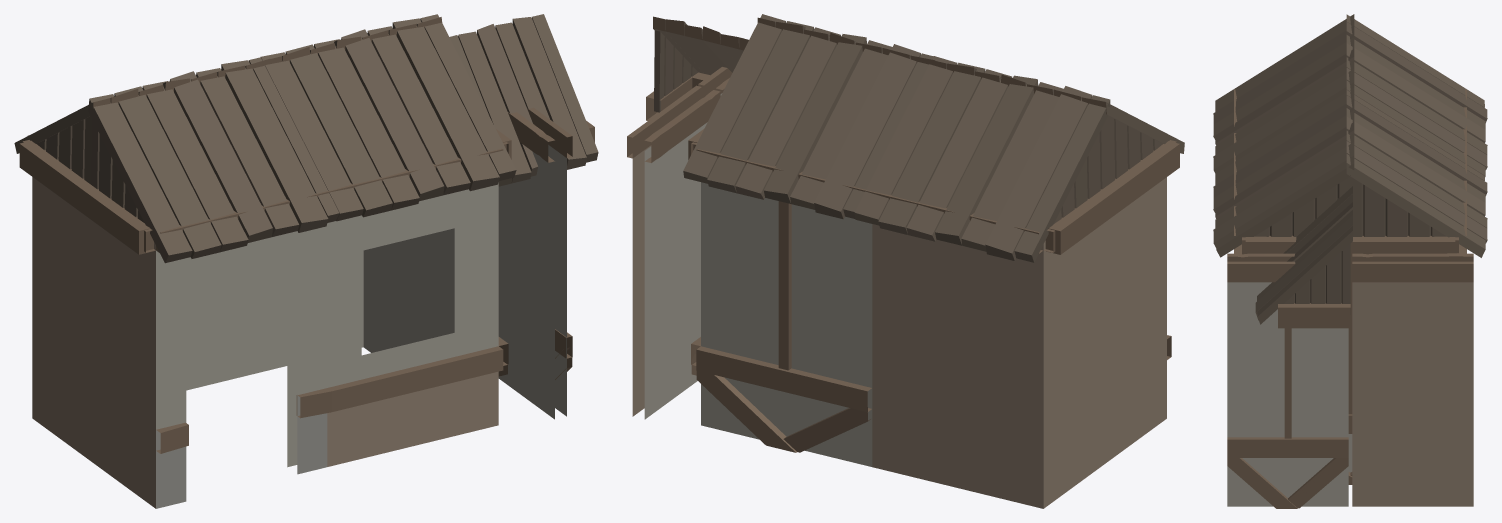
The model's file is storehouse.glb.
3 renders of one model, left to right at view 1: azimuth 30°, elevation 25°; view 2: azimuth 150°, elevation 25°; view 3: azimuth 270°, elevation 25°, orthographic. The views are drawn at different scales.
Visible parts, largest first — view 1: MoyoSilhouetteRoof:6, authored:building-shell-storehouse:window:1, MoyoSilhouetteRoof:8, authored:building-shell-storehouse:brick:4, authored:building-shell-storehouse:door:0, MoyoSilhouetteAnnex:10, MoyoSilhouetteAnnex:12, authored:building-shell-storehouse:plaster:5, authored:building-shell-storehouse:plaster:3, MoyoSilhouetteRoof:7, authored:building-shell-storehouse:brick:2, MoyoSilhouetteRoof:9; view 2: authored:building-shell-storehouse:plaster:3, authored:building-shell-storehouse:brick:2, MoyoSilhouetteRoof:7, MoyoSilhouetteRoof:9, authored:building-shell-storehouse:brick:4, MoyoSilhouetteAnnex:11, MoyoSilhouetteRoof:6, MoyoSilhouetteAnnex:12, MoyoSilhouetteRoof:8; view 3: MoyoSilhouetteAnnex:11, MoyoSilhouetteAnnex:10, MoyoSilhouetteRoof:9, MoyoSilhouetteRoof:8, MoyoSilhouetteRoof:7, MoyoSilhouetteRoof:6, MoyoSilhouetteAnnex:12, authored:building-shell-storehouse:plaster:5.
Part boxes in pixels (box(x1,y1,x2,y2)): MoyoSilhouetteRoof:6: box(79, 57, 339, 263); authored:building-shell-storehouse:window:1: box(327, 148, 503, 466); MoyoSilhouetteRoof:8: box(261, 14, 516, 221); authored:building-shell-storehouse:brick:4: box(22, 140, 155, 508); authored:building-shell-storehouse:door:0: box(156, 190, 331, 508); MoyoSilhouetteAnnex:10: box(498, 107, 572, 419); MoyoSilhouetteAnnex:12: box(449, 14, 598, 186); authored:building-shell-storehouse:plaster:5: box(363, 142, 508, 376); authored:building-shell-storehouse:plaster:3: box(213, 250, 363, 383); MoyoSilhouetteRoof:7: box(14, 58, 270, 210); authored:building-shell-storehouse:brick:2: box(28, 135, 213, 390); MoyoSilhouetteRoof:9: box(264, 17, 442, 65); authored:building-shell-storehouse:plaster:3: box(696, 149, 872, 466); authored:building-shell-storehouse:brick:2: box(867, 190, 1043, 508); MoyoSilhouetteRoof:7: box(854, 56, 1120, 262); MoyoSilhouetteRoof:9: box(683, 14, 932, 219); authored:building-shell-storehouse:brick:4: box(1043, 140, 1176, 508); MoyoSilhouetteAnnex:11: box(627, 85, 720, 419); MoyoSilhouetteRoof:6: box(929, 61, 1184, 210); MoyoSilhouetteAnnex:12: box(646, 16, 748, 120); MoyoSilhouetteRoof:8: box(757, 17, 935, 65); MoyoSilhouetteAnnex:11: box(1352, 253, 1473, 506); MoyoSilhouetteAnnex:10: box(1227, 253, 1348, 508); MoyoSilhouetteRoof:9: box(1346, 90, 1487, 262); MoyoSilhouetteRoof:8: box(1213, 87, 1354, 257); MoyoSilhouetteRoof:7: box(1346, 14, 1487, 176); MoyoSilhouetteRoof:6: box(1213, 14, 1354, 173); MoyoSilhouetteAnnex:12: box(1255, 186, 1352, 328); authored:building-shell-storehouse:plaster:5: box(1242, 237, 1458, 484).
Bounding box in the file's own units: 5.54 × 4.09 × 3.16.
